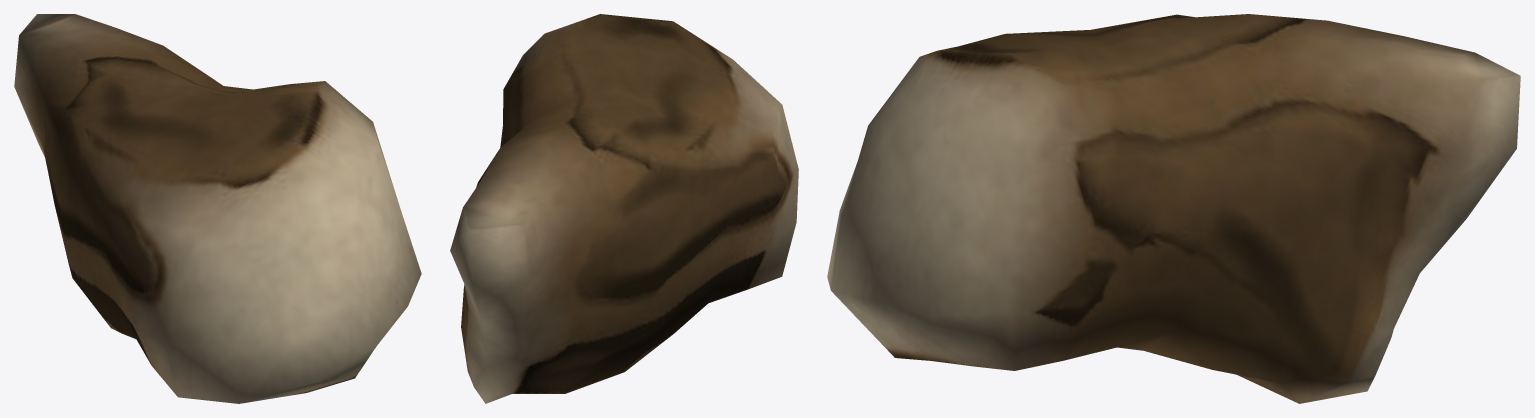
Rendered from Tarsal_III.glb.
3 renders of one model, left to right at view 1: azimuth 30°, elevation 25°; view 2: azimuth 150°, elevation 25°; view 3: azimuth 270°, elevation 25°, orthographic. The views are drawn at different scales.
Visible parts, largest first — view 1: Tarsal_III_Left1:Group39976; view 2: Tarsal_III_Left1:Group39976; view 3: Tarsal_III_Left1:Group39976.
Part boxes in pixels (x1=…): Tarsal_III_Left1:Group39976: x1=14, y1=14, x2=421, y2=403; Tarsal_III_Left1:Group39976: x1=450, y1=14, x2=798, y2=403; Tarsal_III_Left1:Group39976: x1=827, y1=14, x2=1520, y2=403.
Bounding box in the file's own units: 9.16 × 9.35 × 16.42.
1 material, 1 textured.
